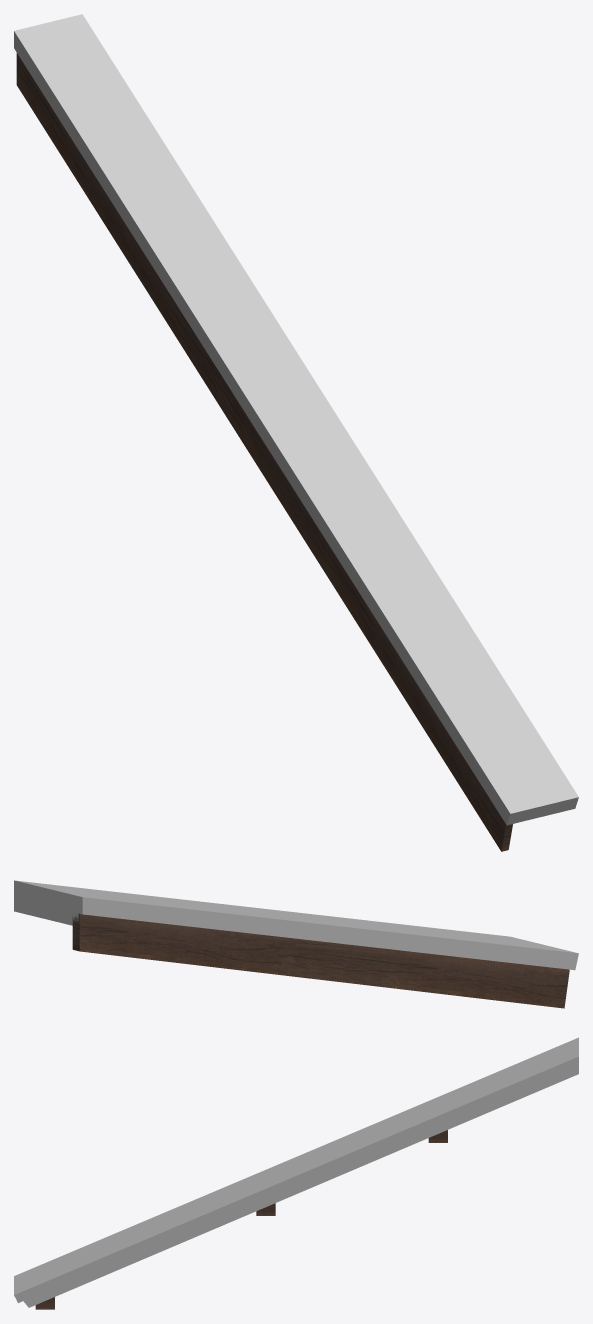
File: kawara__x3t_a1end_r.fbx
3 renders of one model, top to bottom at view 1: azimuth 30°, elevation 25°; view 2: azimuth 150°, elevation 25°; view 3: azimuth 270°, elevation 25°, orthographic. The views are drawn at different scales.
Visible parts, largest first — view 1: kawara__x3t_a1end_r; view 2: kawara__x3t_a1end_r; view 3: kawara__x3t_a1end_r.
Part boxes in pixels (x1,y1,x2,y2): kawara__x3t_a1end_r: (14,14,578,851); kawara__x3t_a1end_r: (14,880,578,1008); kawara__x3t_a1end_r: (14,1037,578,1309).
Bounding box in the file's own units: 30.3 × 197 × 380.
